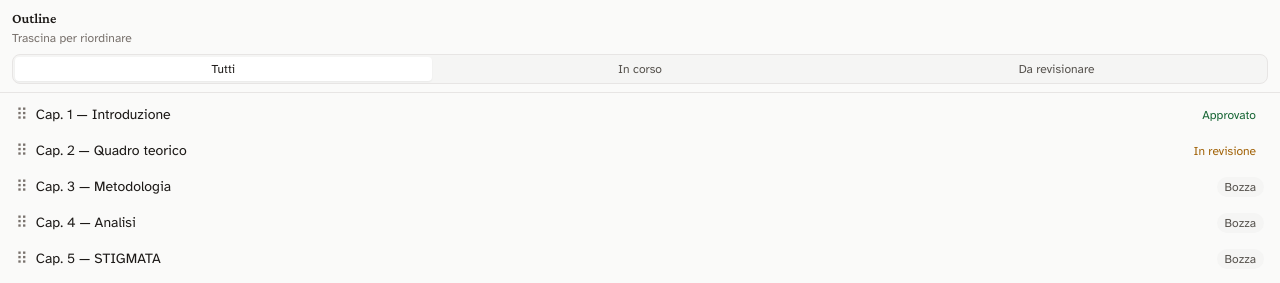
Test case: WritingOutline › filters chapters by status segment
The width and height of the screenshot is (1280, 283).
Click the button "Da revisionare": (1057, 69) [848,57,1265,81]
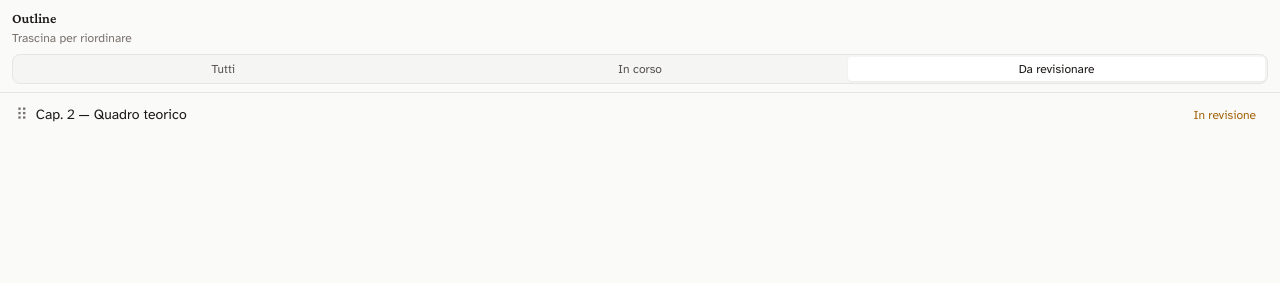
expect the text "Cap. 2 — Quadro teorico" is shown: met, box [36,106,187,123]
expect the link "Cap. 1 — Introduzione" is gone: met
